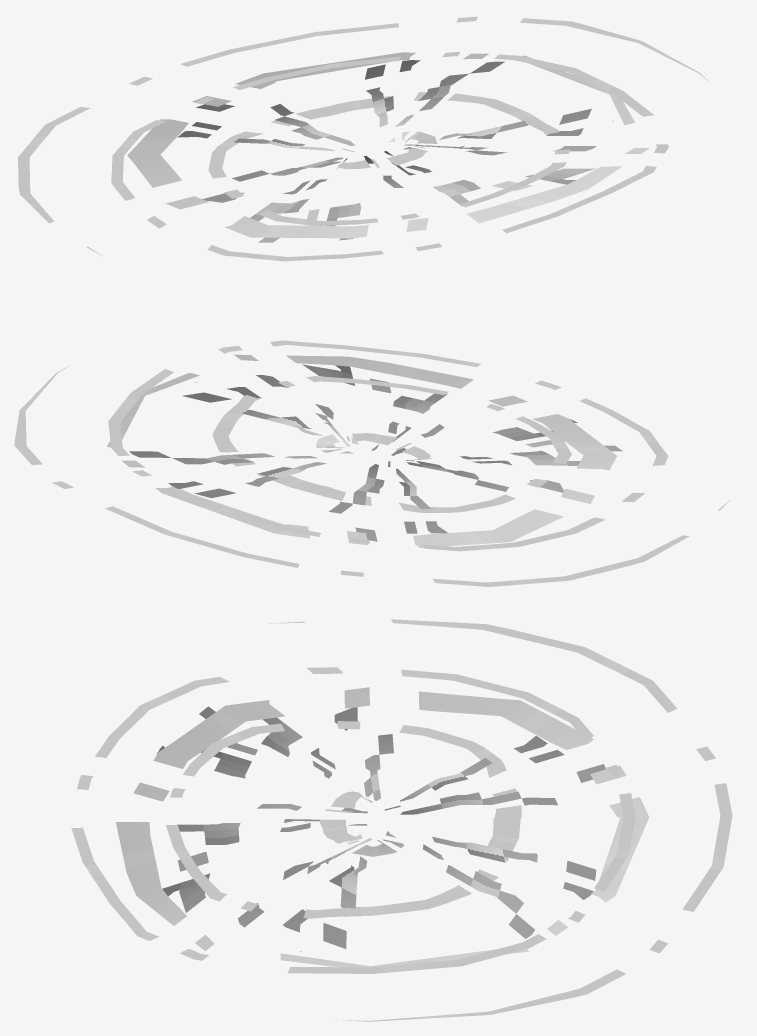
Rendered from vanilla_effects_fxrapidsringheavy-7b12aee1.glb.
3 renders of one model, top to bottom at view 1: azimuth 30°, elevation 25°; view 2: azimuth 150°, elevation 25°; view 3: azimuth 270°, elevation 25°, orthographic. The views are drawn at different scales.
Visible parts, largest first — view 1: es|ripplesBig, es|ripplesSmall, es|jetPuffs; view 2: es|ripplesBig, es|ripplesSmall, es|jetPuffs; view 3: es|ripplesBig, es|ripplesSmall, es|jetPuffs.
Boxes of the visible parts, <box> form: es|ripplesBig: <box>18,16,709,261</box>; es|ripplesSmall: <box>127,52,649,238</box>; es|jetPuffs: <box>177,60,613,242</box>; es|ripplesBig: <box>14,340,730,586</box>; es|ripplesSmall: <box>107,354,616,547</box>; es|jetPuffs: <box>129,364,622,541</box>; es|ripplesBig: <box>71,619,732,1021</box>; es|ripplesSmall: <box>116,687,649,967</box>; es|jetPuffs: <box>157,706,605,952</box>.
Bounding box in the file's own units: 20.62 × 0.0293 × 15.74.
3 materials, 3 textured.
